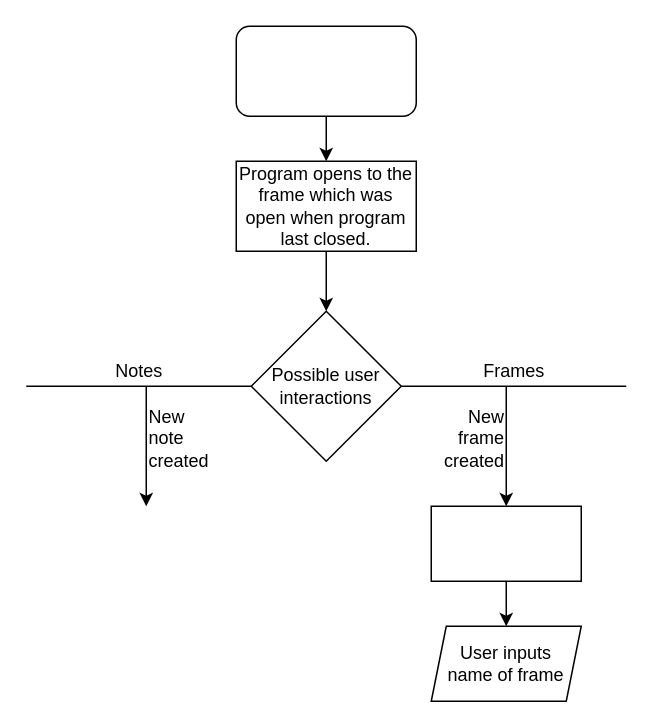
Some shapes in this 654 by 728 pixel diagram are drawn without their labels. Here are the shapes that lost their labels. From the top down, the centre of each, then its label:
At point (325, 70): "Program Opened".
At point (505, 543): "New data structure created for frame".
